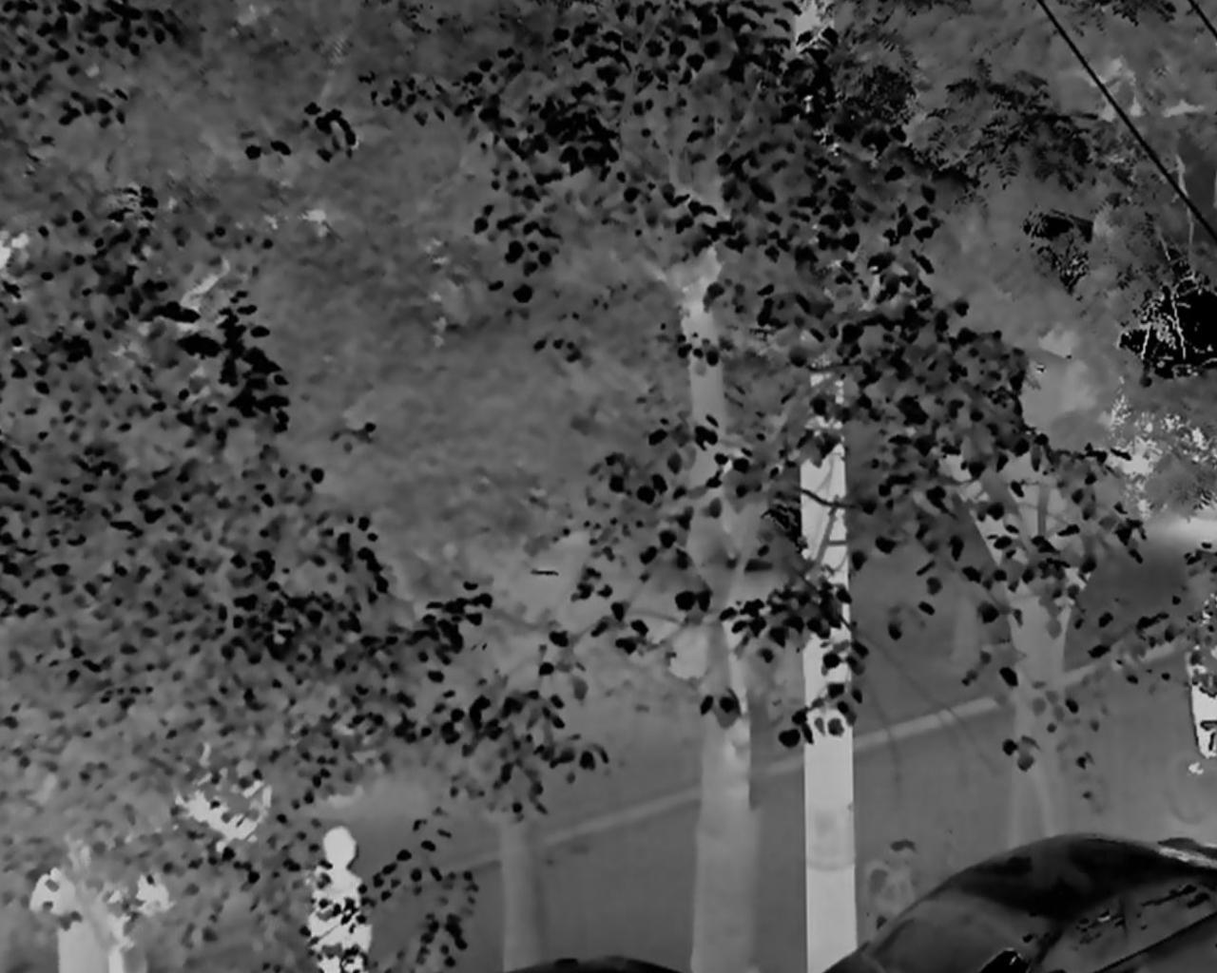person: (310, 825, 364, 973)
